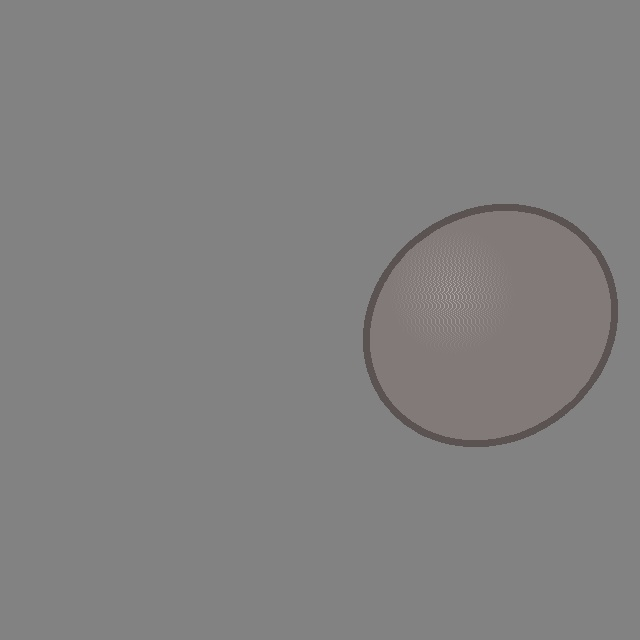lens: (366, 208, 614, 442)
